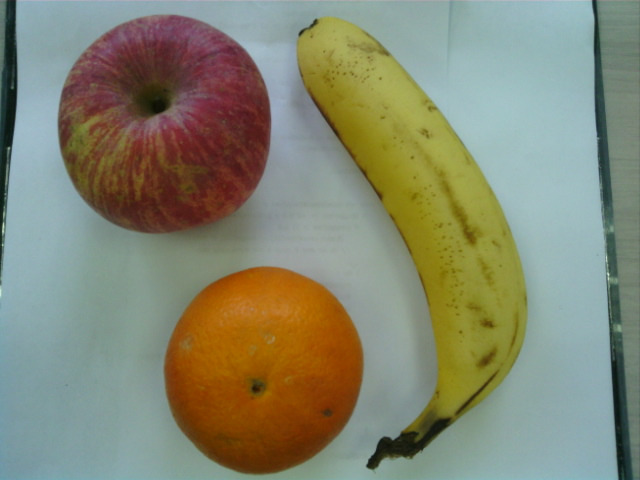normal_apple: (56, 16, 273, 234)
normal_banana: (298, 15, 532, 401)
normal_orange: (165, 264, 364, 477)
